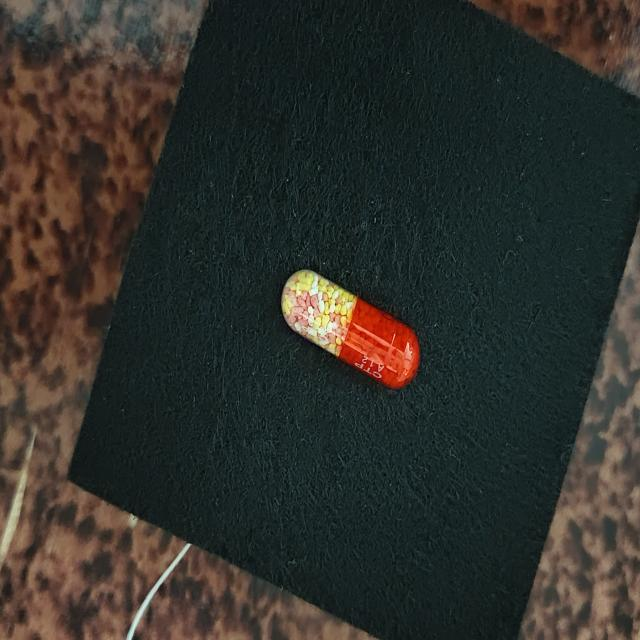Intact Capsule: (281, 269, 420, 389)
